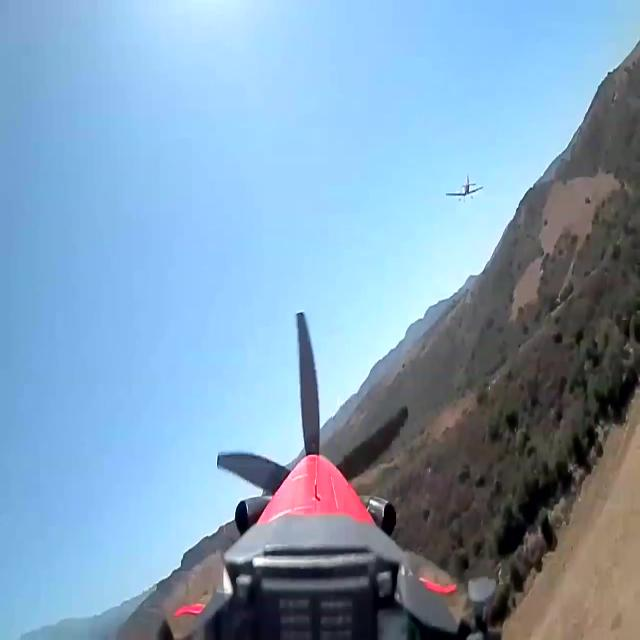iha: (446, 170, 483, 204)
